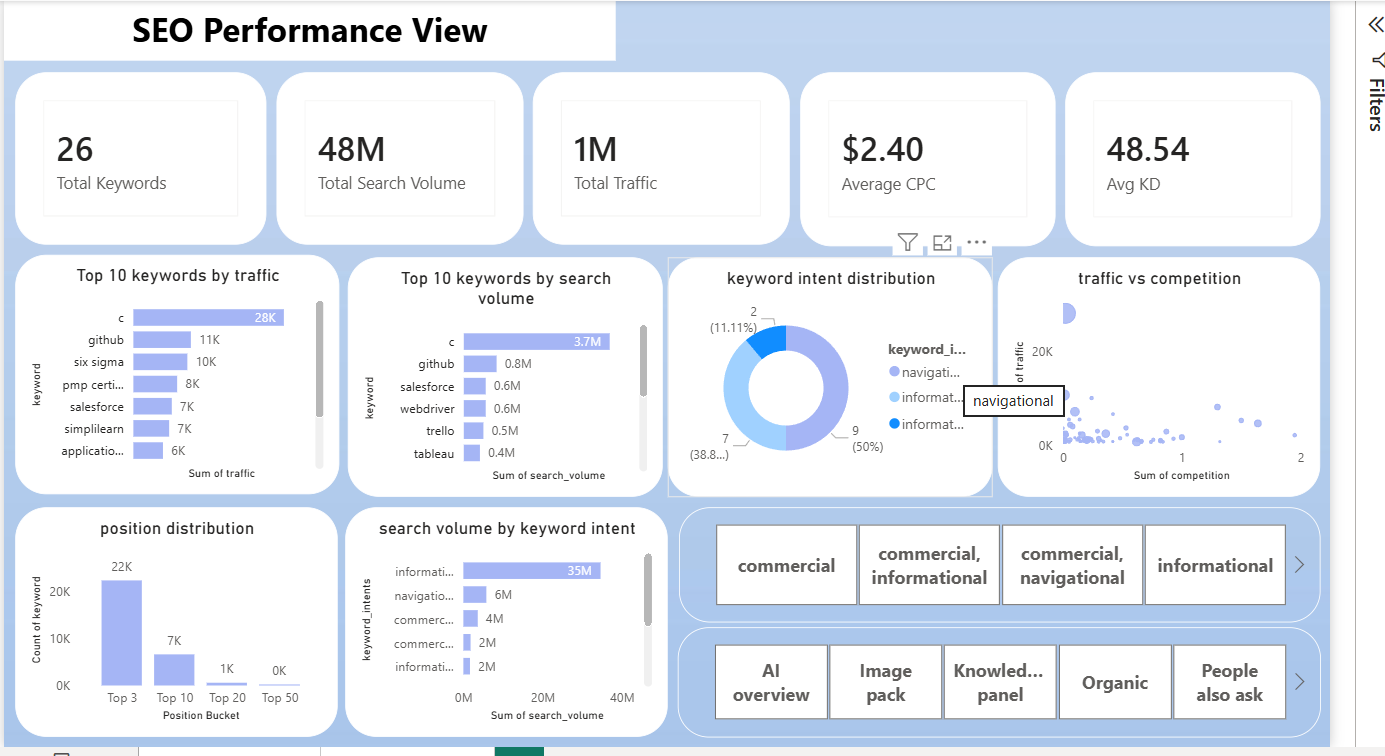

What the dashboard file says about the page in this screenshot:
{"tool":"powerbi","page":{"name":"executive summary","canvas":[1280,720],"ordinal":0},"visuals":[{"type":"cardVisual","fields":{"Data":["DAX.Total Keywords"]},"box":[11,68.8,242.3,166.6],"z":0},{"type":"cardVisual","fields":{"Data":["DAX.Total Search Volume"]},"box":[262.9,68.8,238.2,166.6],"z":1000},{"type":"cardVisual","fields":{"Data":["DAX.Total Traffic"]},"box":[510.7,68.8,247.8,166.6],"z":2000},{"type":"cardVisual","fields":{"Data":["DAX.Average CPC"]},"box":[768.2,68.8,246.4,168],"z":3000},{"type":"cardVisual","fields":{"Data":["DAX.Avg KD"]},"box":[1024.2,68.8,246.4,168],"z":4000},{"type":"textbox","box":[0,0,590.6,57.8],"z":5000},{"type":"barChart","title":"Top 10 keywords by traffic","fields":{"Y":["Sum(public main_traffic_data.traffic)"],"Category":["public main_traffic_data.keyword"]},"box":[11,245,312.5,231.3],"z":6000},{"type":"barChart","title":"Top 10 keywords by search volume","fields":{"Category":["public main_traffic_data.keyword"],"Y":["Sum(public main_traffic_data.search_volume)"]},"box":[331.8,247.8,304.2,231.3],"z":7000},{"type":"donutChart","title":"keyword intent distribution","fields":{"Category":["public main_traffic_data.keyword_intents"],"Y":["CountNonNull(public main_traffic_data.keyword)"]},"box":[640.1,247.8,313.9,231.3],"z":8000},{"type":"scatterChart","title":"traffic vs competition","fields":{"X":["Sum(public main_traffic_data.competition)"],"Y":["Sum(public main_traffic_data.traffic)"],"Size":["Sum(public main_traffic_data.search_volume)"],"Category":["public main_traffic_data.keyword"]},"box":[959.5,247.8,311.1,231.3],"z":9000},{"type":"columnChart","title":"position distribution","fields":{"Y":["CountNonNull(public main_traffic_data.keyword)"],"Category":["public main_traffic_data.Position Bucket"]},"box":[11,488.7,311.1,221.6],"z":10000},{"type":"barChart","title":"search volume by keyword intent","fields":{"Y":["Sum(public main_traffic_data.search_volume)"],"Category":["public main_traffic_data.keyword_intents"]},"box":[329,488.7,311.1,221.6],"z":11000},{"type":"slicer","fields":{"Values":["public main_traffic_data.keyword_intents"]},"box":[651.2,488.7,619.5,111.5],"z":12000},{"type":"slicer","fields":{"Values":["public main_traffic_data.position_type"]},"box":[649.8,604.3,620.9,106],"z":13000}]}

Visuals, with their boxes on the page's 1280x720 design canvas (x1, y1, x2, y2). These are canvas units, not pixel positions in the 1385x756 screenshot, which may show the page scaled, cropped or inside an application window:
cardVisual - DAX.Total Keywords: pyautogui.locateOnScreen(11, 69, 253, 235)
cardVisual - DAX.Total Search Volume: pyautogui.locateOnScreen(263, 69, 501, 235)
cardVisual - DAX.Total Traffic: pyautogui.locateOnScreen(511, 69, 758, 235)
cardVisual - DAX.Average CPC: pyautogui.locateOnScreen(768, 69, 1015, 237)
cardVisual - DAX.Avg KD: pyautogui.locateOnScreen(1024, 69, 1271, 237)
textbox: pyautogui.locateOnScreen(0, 0, 591, 58)
"Top 10 keywords by traffic" barChart: pyautogui.locateOnScreen(11, 245, 324, 476)
"Top 10 keywords by search volume" barChart: pyautogui.locateOnScreen(332, 248, 636, 479)
"keyword intent distribution" donutChart: pyautogui.locateOnScreen(640, 248, 954, 479)
"traffic vs competition" scatterChart: pyautogui.locateOnScreen(960, 248, 1271, 479)
"position distribution" columnChart: pyautogui.locateOnScreen(11, 489, 322, 710)
"search volume by keyword intent" barChart: pyautogui.locateOnScreen(329, 489, 640, 710)
slicer - public main_traffic_data.keyword_intents: pyautogui.locateOnScreen(651, 489, 1271, 600)
slicer - public main_traffic_data.position_type: pyautogui.locateOnScreen(650, 604, 1271, 710)
